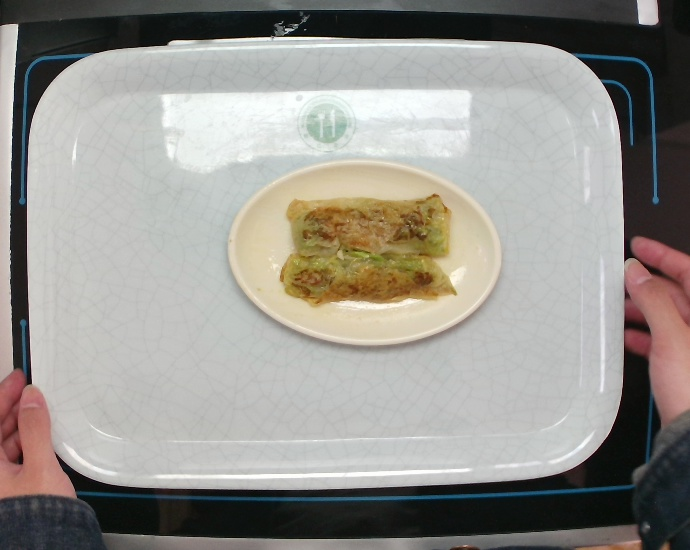JYsf-Tuo_Yuan_Wan: (225, 156, 506, 349)
